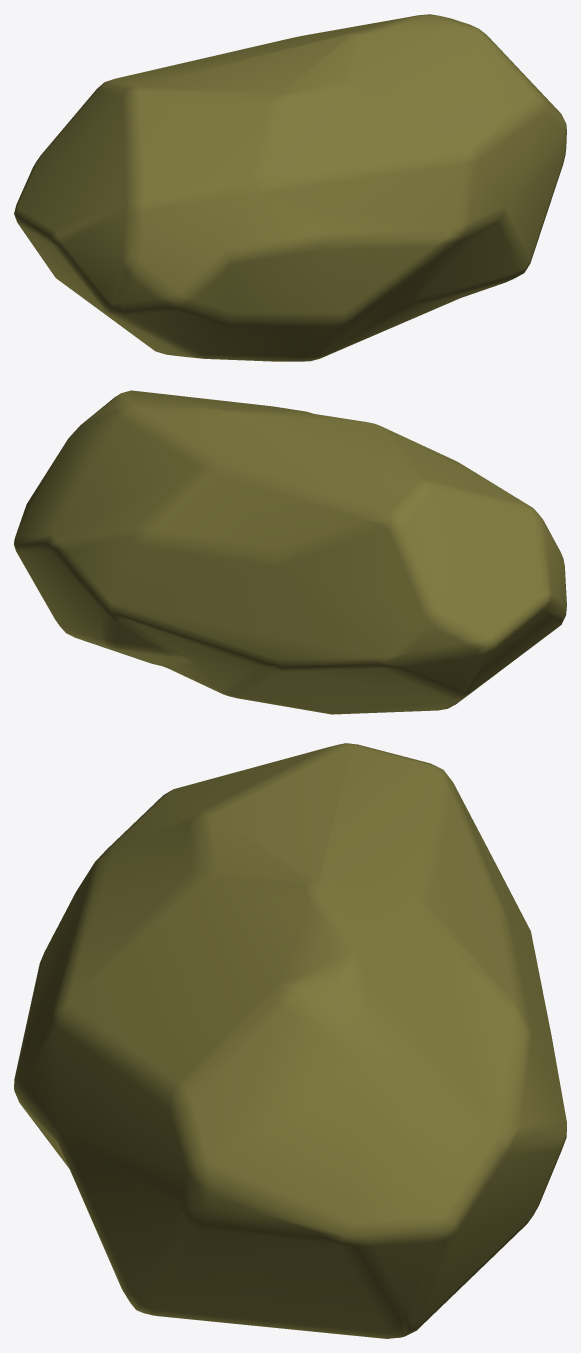
File: JOP_Rock_01.fbx
The picture shows the model from 3 angles, top to bottom: view 1: azimuth 30°, elevation 25°; view 2: azimuth 150°, elevation 25°; view 3: azimuth 270°, elevation 25°; orthographic projection. The views are drawn at different scales.
Visible parts, largest first — view 1: pPlatonic1; view 2: pPlatonic1; view 3: pPlatonic1.
Boxes of the visible parts, x1,y1,x2,y2 form: pPlatonic1: [14, 14, 566, 361]; pPlatonic1: [14, 390, 566, 714]; pPlatonic1: [14, 743, 566, 1338].
Size of the model in its own units: 172 by 85.23 by 107.
